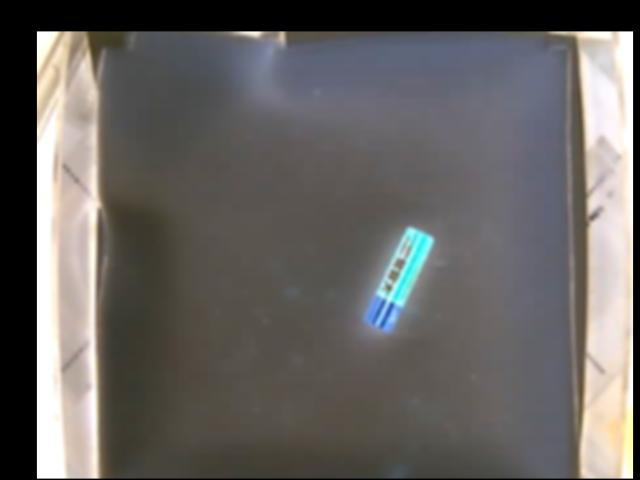Battery: (366, 225, 435, 326)
